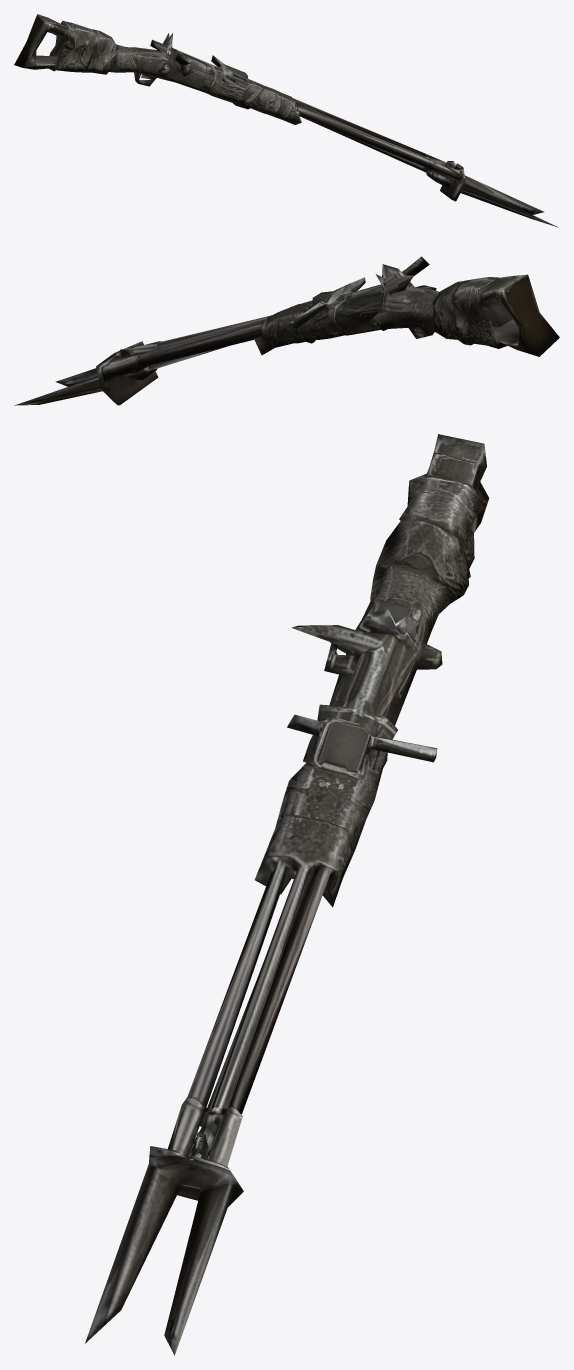
File: infantry_spd_musket.glb
3 views of the same model, one above another, from view 1: azimuth 30°, elevation 25°; view 2: azimuth 150°, elevation 25°; view 3: azimuth 270°, elevation 25° (orthographic). The views are drawn at different scales.
Visible parts, largest first — view 1: tripo_node_41a78b5d-f07c-4184-b36e-7870f08c1ce4; view 2: tripo_node_41a78b5d-f07c-4184-b36e-7870f08c1ce4; view 3: tripo_node_41a78b5d-f07c-4184-b36e-7870f08c1ce4.
Part boxes in pixels (box(x1,y1,x2,y2)): tripo_node_41a78b5d-f07c-4184-b36e-7870f08c1ce4: box(14, 14, 558, 227); tripo_node_41a78b5d-f07c-4184-b36e-7870f08c1ce4: box(14, 256, 559, 405); tripo_node_41a78b5d-f07c-4184-b36e-7870f08c1ce4: box(85, 434, 488, 1355).
Bounding box in the file's own units: 0.6745 × 0.35 × 0.2583.
1 material, 1 textured.
